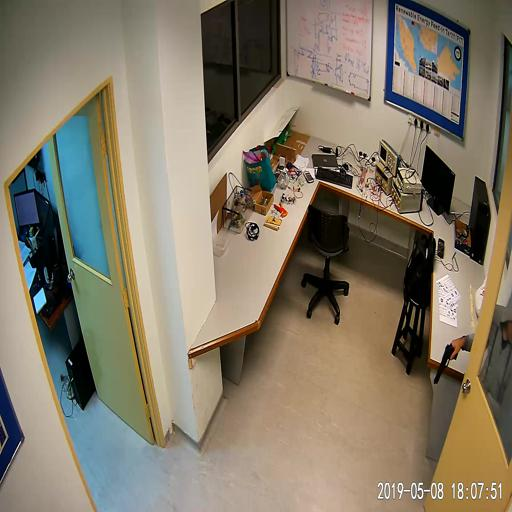pistol: (433, 344, 460, 387)
